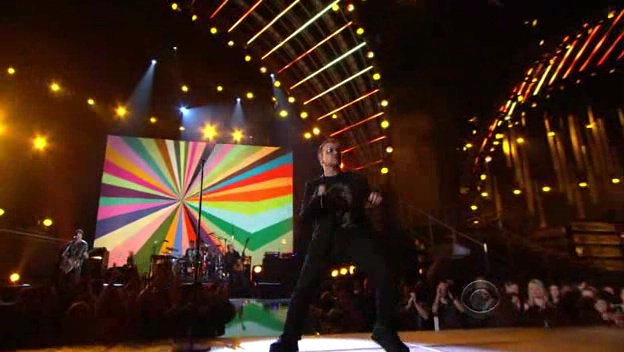person: (309, 145, 374, 264), (306, 145, 371, 264), (312, 145, 377, 264), (309, 142, 374, 261), (309, 148, 374, 267)
target_negative: (271, 250, 489, 278), (393, 17, 452, 90), (537, 273, 594, 345), (434, 264, 450, 325), (483, 141, 508, 171), (542, 282, 558, 292)
